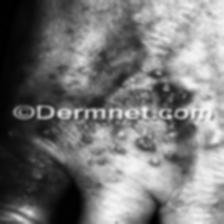Toxin: (43, 124, 202, 166), (87, 66, 189, 106), (0, 140, 37, 190)
